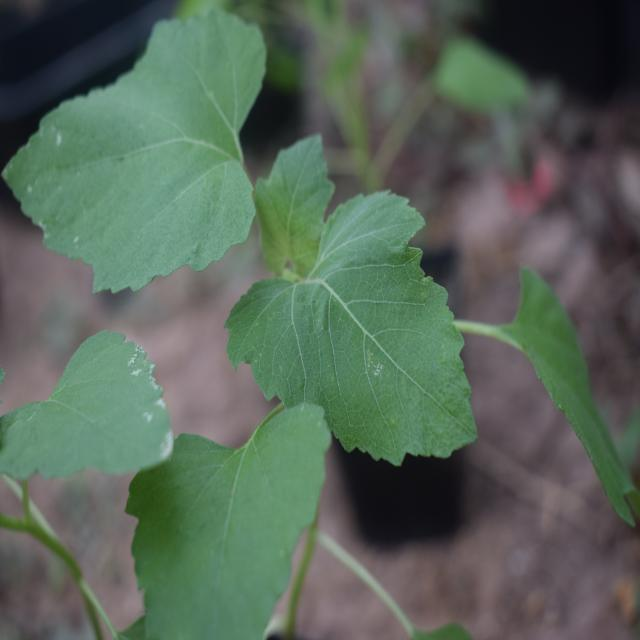cocklebur: (27, 6, 541, 602)
